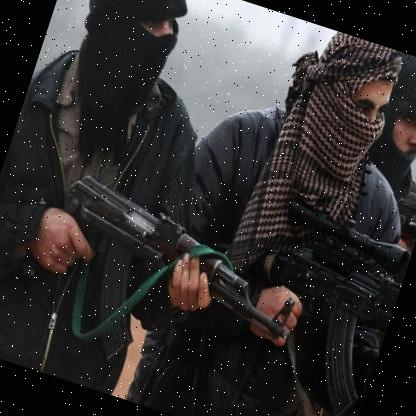rifle: (24, 159, 314, 399), (215, 192, 415, 416)
